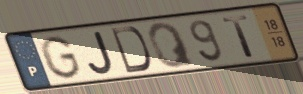9: (188, 19, 225, 64)
D: (108, 25, 153, 75)
G: (37, 34, 84, 81)
J: (85, 29, 116, 77)
Q: (146, 20, 198, 70)
T: (220, 13, 258, 59)
